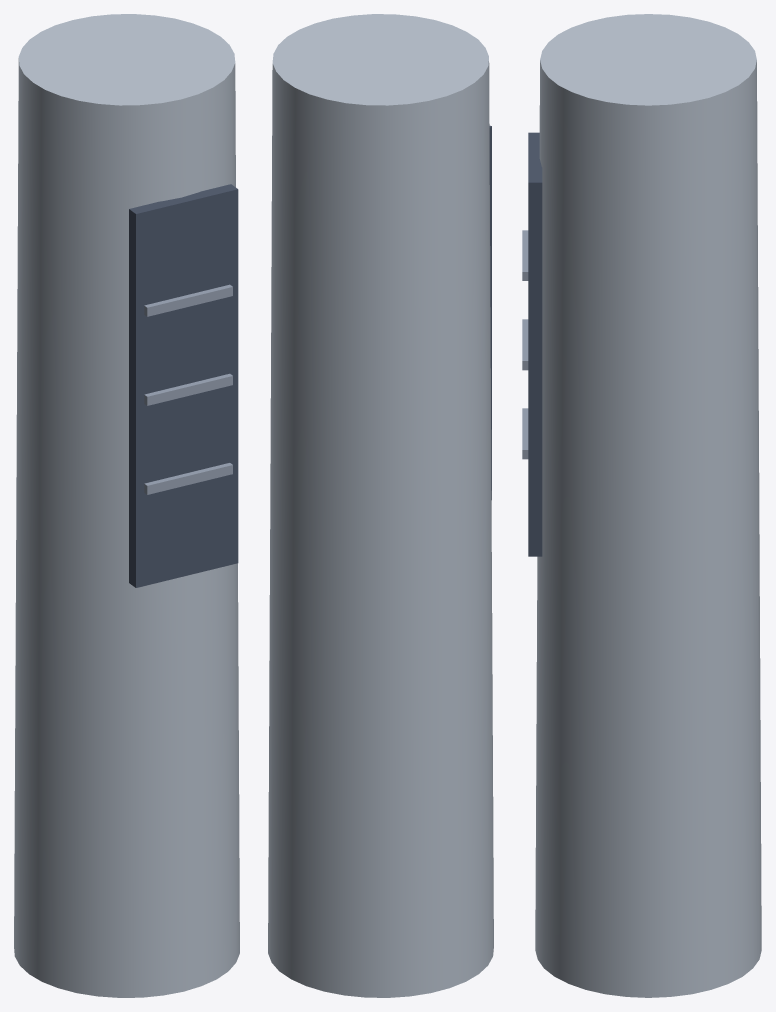
The model's file is floorac-lite.glb.
3 renders of one model, left to right at view 1: azimuth 30°, elevation 25°; view 2: azimuth 150°, elevation 25°; view 3: azimuth 270°, elevation 25°, orthographic.
Parts seen in each view (by area): view 1: floorac; view 2: floorac; view 3: floorac.
Part boxes in pixels (box(x1,y1,x2,y2)): floorac: box(14, 14, 239, 997); floorac: box(268, 14, 493, 997); floorac: box(522, 14, 761, 997).
Bounding box in the file's own units: 0.4034 × 1.75 × 0.4266.
